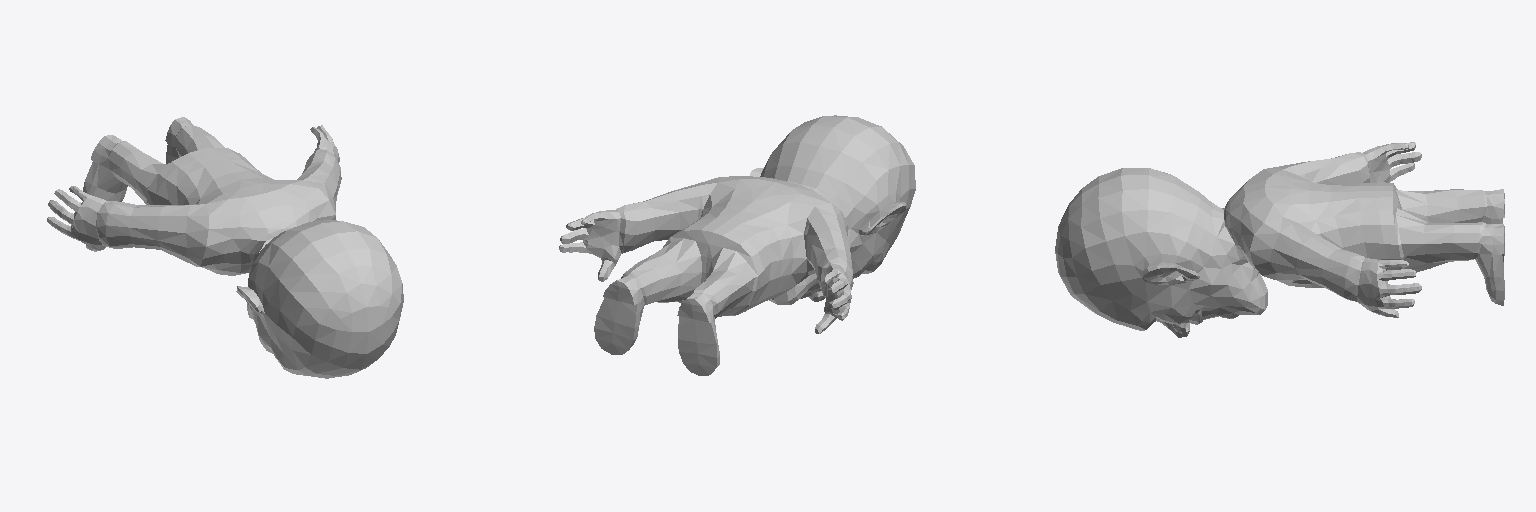
File: Obama.obj
3 renders of one model, left to right at view 1: azimuth 30°, elevation 25°; view 2: azimuth 150°, elevation 25°; view 3: azimuth 270°, elevation 25°, orthographic.
Parts seen in each view (by area): view 1: Obama_0; view 2: Obama_0; view 3: Obama_0.
Boxes of the visible parts, x1=… form: Obama_0: x1=47, y1=117, x2=403, y2=378; Obama_0: x1=559, y1=115, x2=915, y2=375; Obama_0: x1=1055, y1=142, x2=1504, y2=337.
Bounding box in the file's own units: 0.0183 × 0.0099 × 0.025.